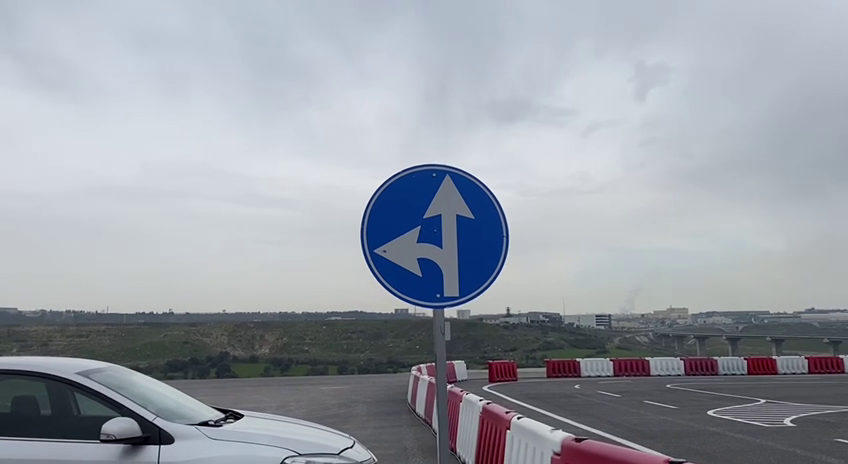forwardAndLeft: (356, 160, 511, 310)
